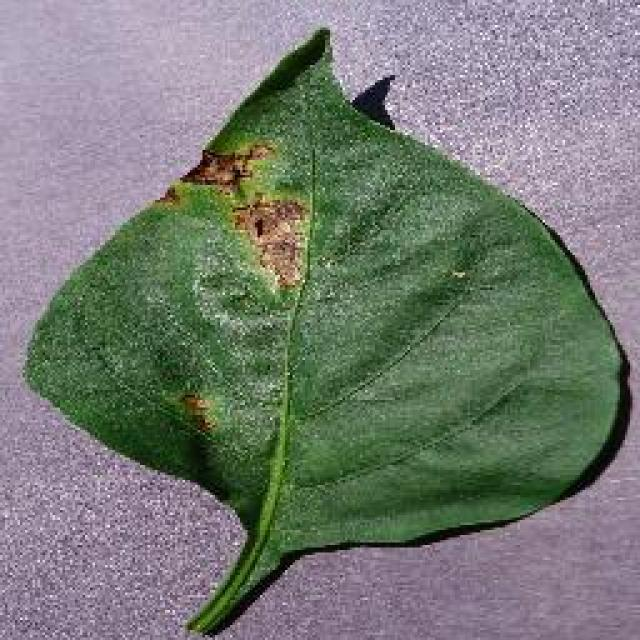Chilli_Bacterial_Spot: (17, 22, 635, 638), (152, 135, 312, 440), (160, 137, 312, 295), (228, 190, 310, 292), (180, 140, 265, 198), (175, 388, 217, 438), (175, 388, 210, 418), (445, 263, 470, 285)
